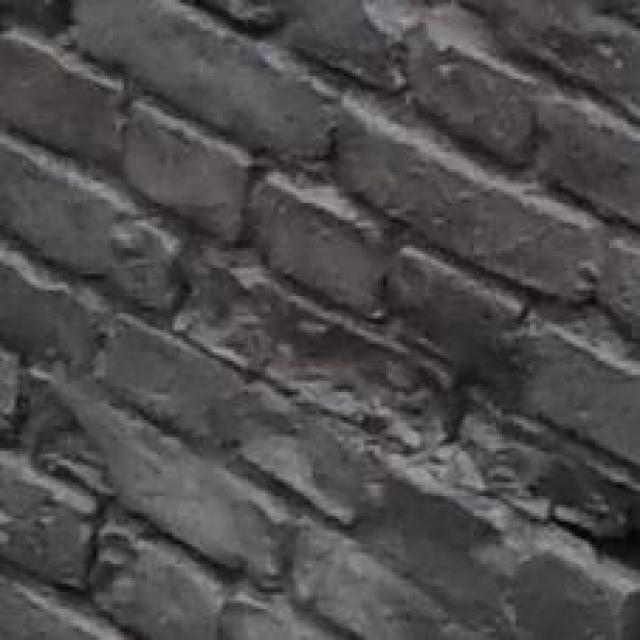Crack: (160, 279, 640, 570)
